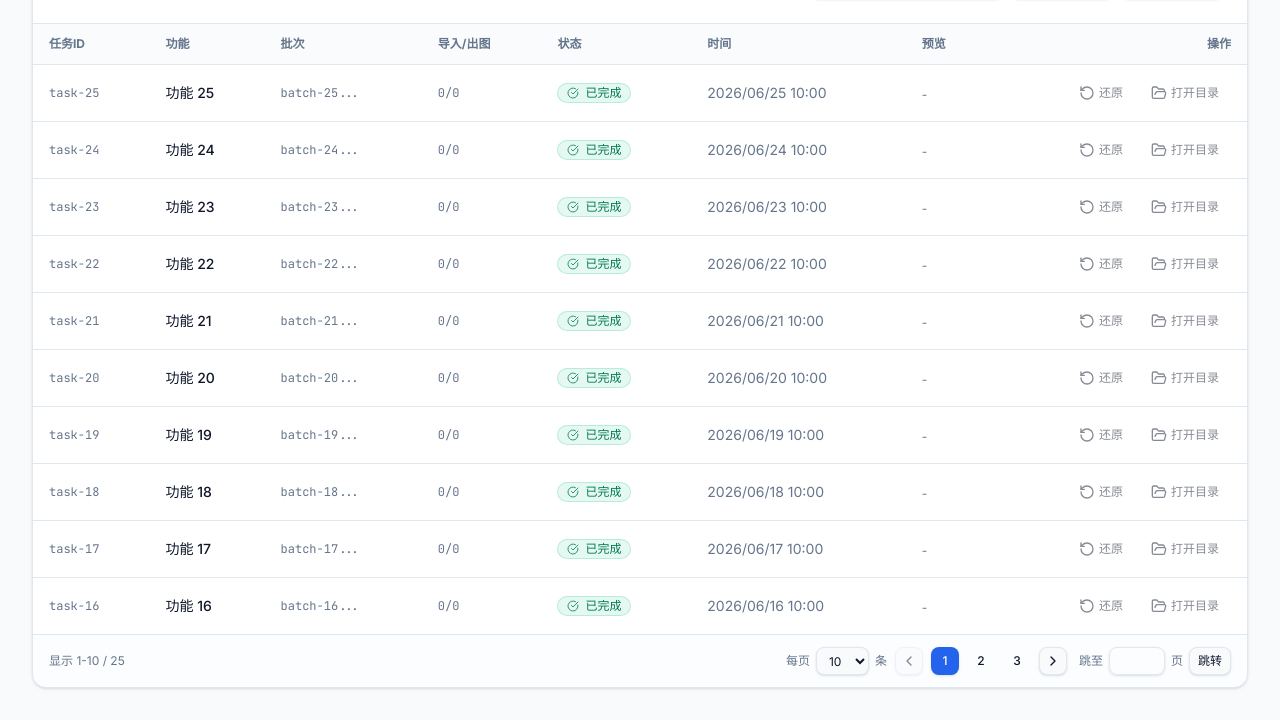
Profile › supports page size selection of 10, 20, and 50
The width and height of the screenshot is (1280, 720).
(page scrolled)
Expected: the text "显示 1-10 / 25" is shown, [49,653,125,669]
Select "20" in the dropdown named "每页条数": coordinates (842, 661) [816,647,869,675]
(page scrolled)
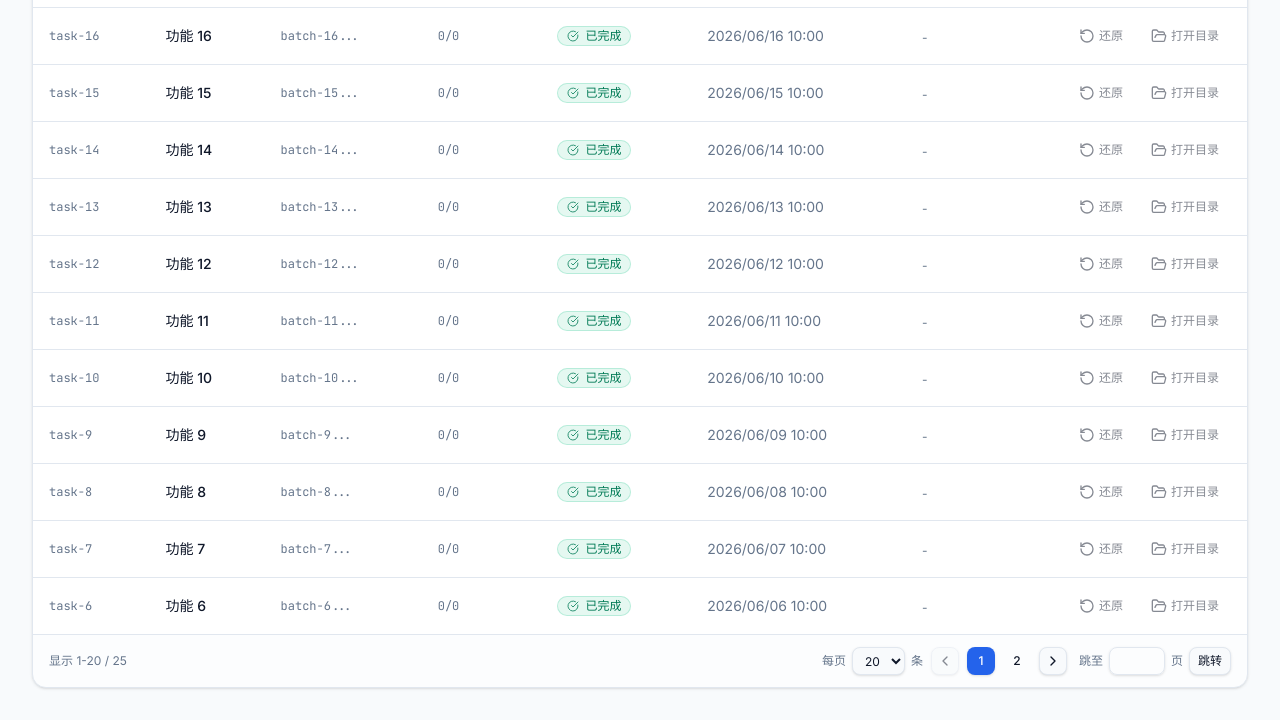
Now the text "显示 1-20 / 25" is shown, box [49,653,127,669]
Select "50" in the dropdown named "每页条数": coordinates (878, 661) [852,647,905,675]
(page scrolled)
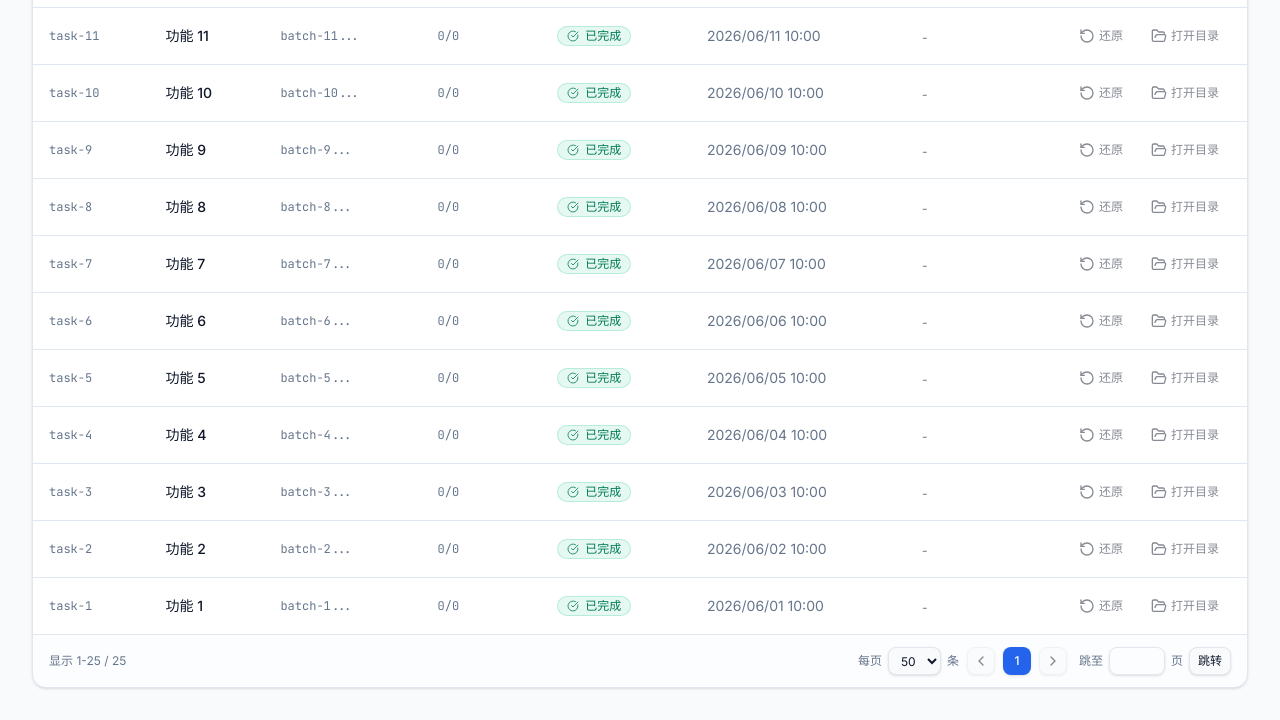
Now the text "显示 1-25 / 25" is shown, box [49,653,126,669]
